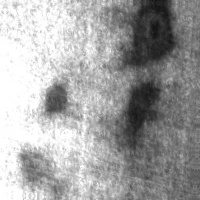patches: (129, 3, 178, 67), (124, 80, 160, 143), (43, 82, 68, 116)
